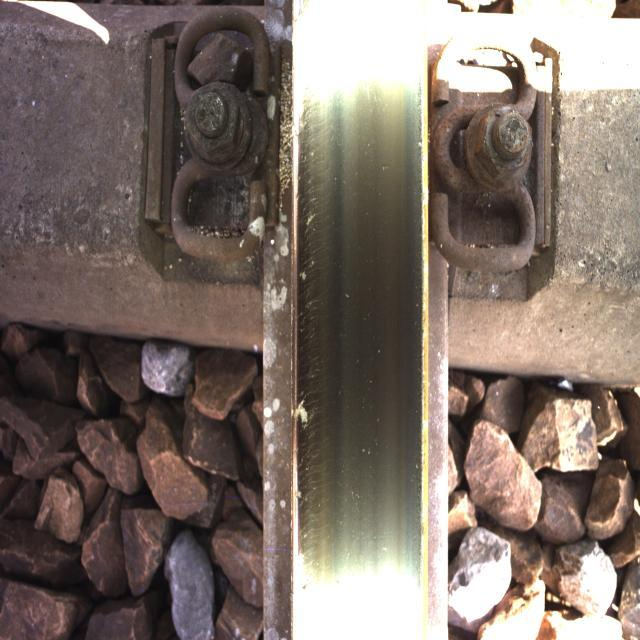normal: (291, 18, 389, 604)
